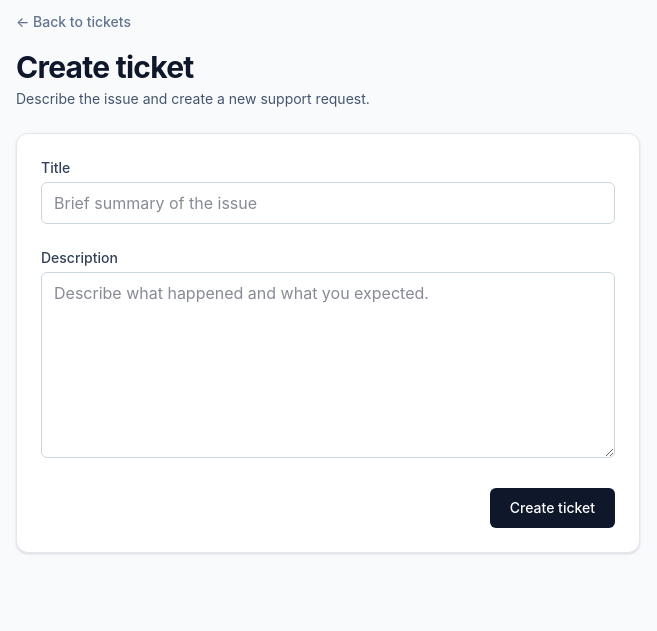
Scenario: CreateTicketPage › shows an error when ticket creation fails
Type "Cannot access reports" into the field labelled "Title" at (328, 203), box [41,182,615,224]
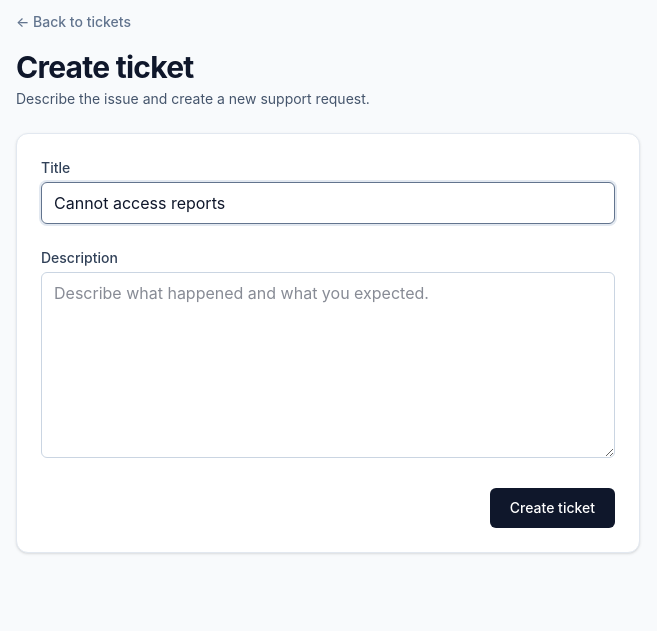
Type "The reports page returns an unexpected error." into the text box labelled "Description" at (328, 365), box [41,272,615,458]
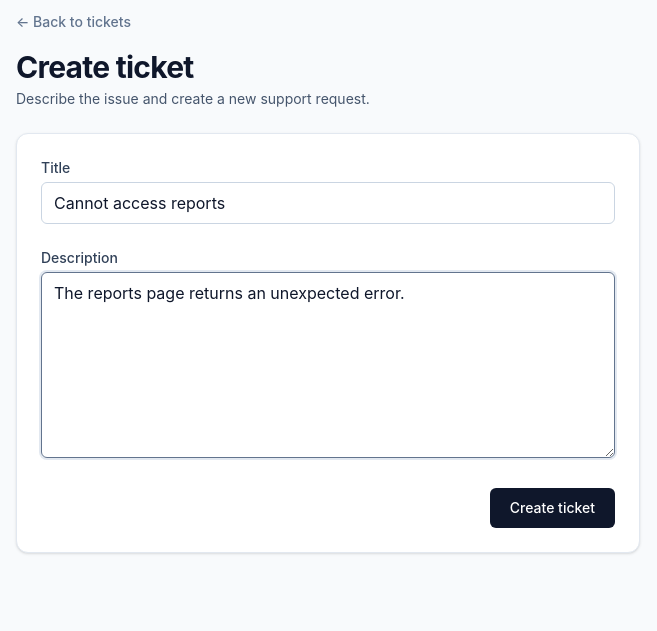
Click the button "Create ticket" at (552, 508), box [490,488,615,528]
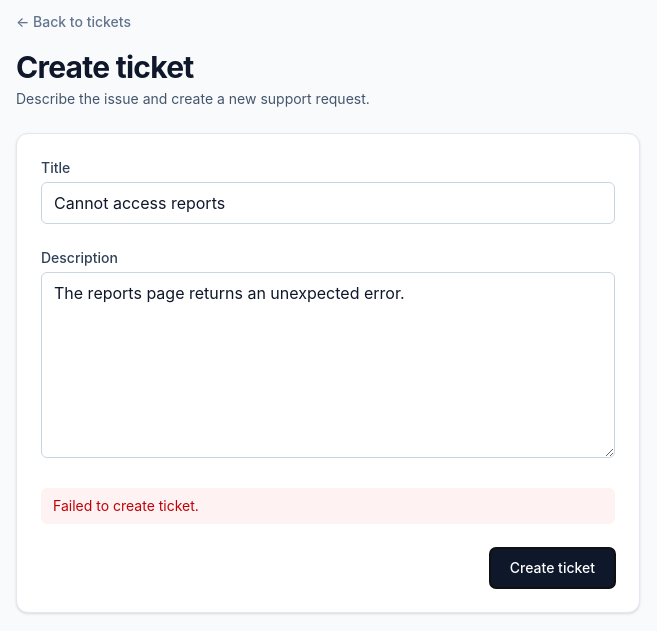
expect the text "Failed to create ticket." is shown: met, box [41,488,615,524]
